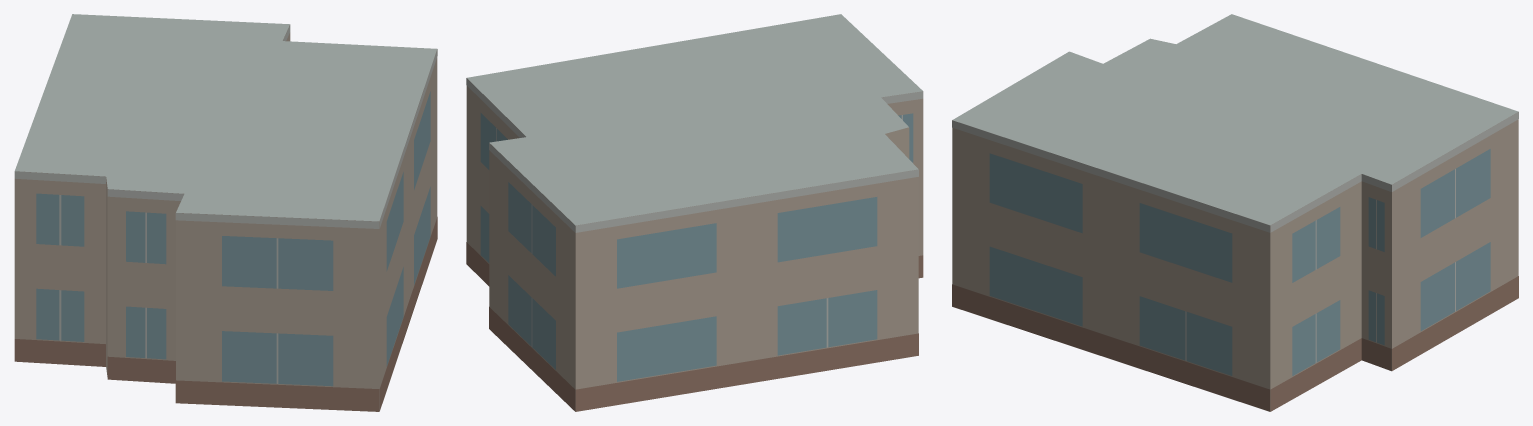
The model's file is survey-upis-32850021.glb.
The picture shows the model from 3 angles, left to right: view 1: azimuth 30°, elevation 25°; view 2: azimuth 150°, elevation 25°; view 3: azimuth 270°, elevation 25°; orthographic projection. The views are drawn at different scales.
Visible parts, largest first — view 1: survey-upis-32850021.tmp; view 2: survey-upis-32850021.tmp; view 3: survey-upis-32850021.tmp.
Boxes of the visible parts, x1,y1,x2,y2 form: survey-upis-32850021.tmp: (14,14,437,411); survey-upis-32850021.tmp: (466,14,923,411); survey-upis-32850021.tmp: (952,14,1518,411).
Bounding box in the file's own units: 14.84 × 6.1 × 16.81.
